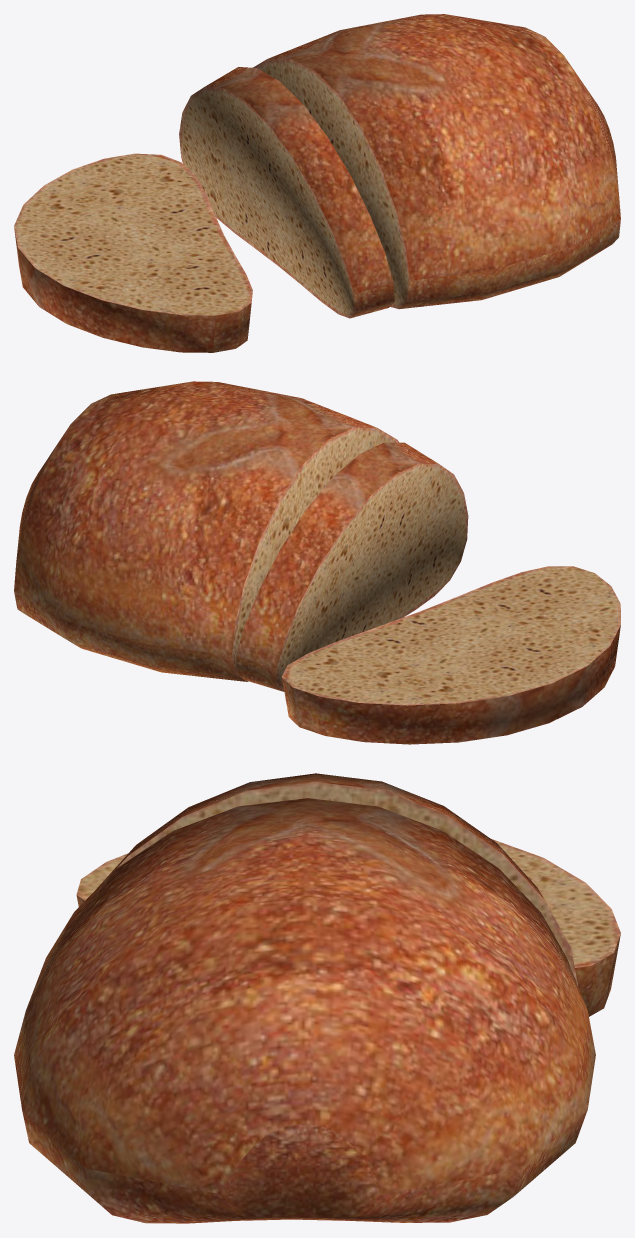
The model's file is pan_fetas.glb.
3 views of the same model, one above another, from view 1: azimuth 30°, elevation 25°; view 2: azimuth 150°, elevation 25°; view 3: azimuth 270°, elevation 25° (orthographic). The views are drawn at different scales.
Visible parts, largest first — view 1: pan_fetas; view 2: pan_fetas; view 3: pan_fetas.
Boxes of the visible parts, bbox=[...] form: pan_fetas: bbox=[14, 14, 620, 352]; pan_fetas: bbox=[14, 381, 620, 744]; pan_fetas: bbox=[14, 773, 620, 1223].
Bounding box in the file's own units: 21.6 × 7.6 × 14.7.
1 material, 1 textured.
